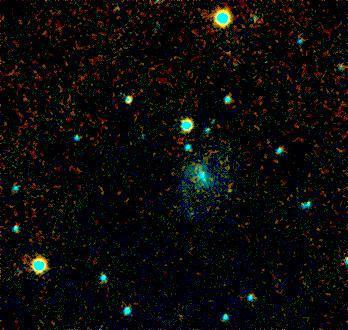star: (216, 175, 246, 205)
